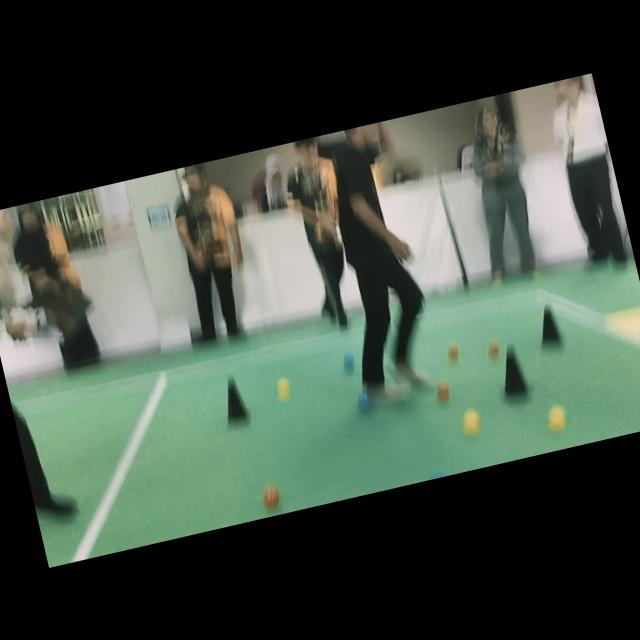ball: (548, 404, 565, 432), (263, 483, 280, 510), (463, 408, 479, 436), (358, 388, 372, 413), (436, 378, 450, 403), (277, 377, 290, 400), (447, 340, 459, 364), (487, 338, 499, 361), (343, 352, 354, 373), (431, 471, 444, 479)
goal: (605, 306, 640, 344)
